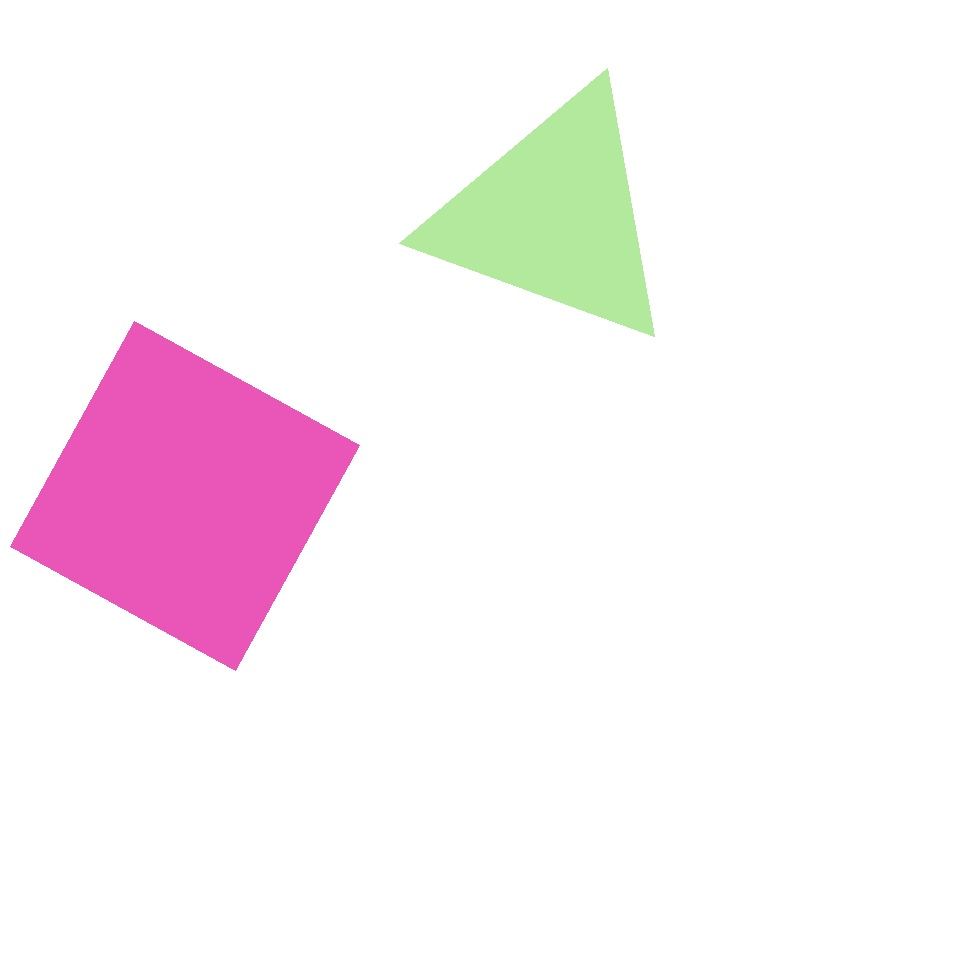circle: (426, 82, 682, 350)
square: (11, 322, 360, 670), (584, 414, 860, 689), (164, 419, 439, 694)
triangle: (174, 518, 552, 896), (102, 348, 472, 717), (324, 106, 650, 431), (28, 1, 188, 162)
